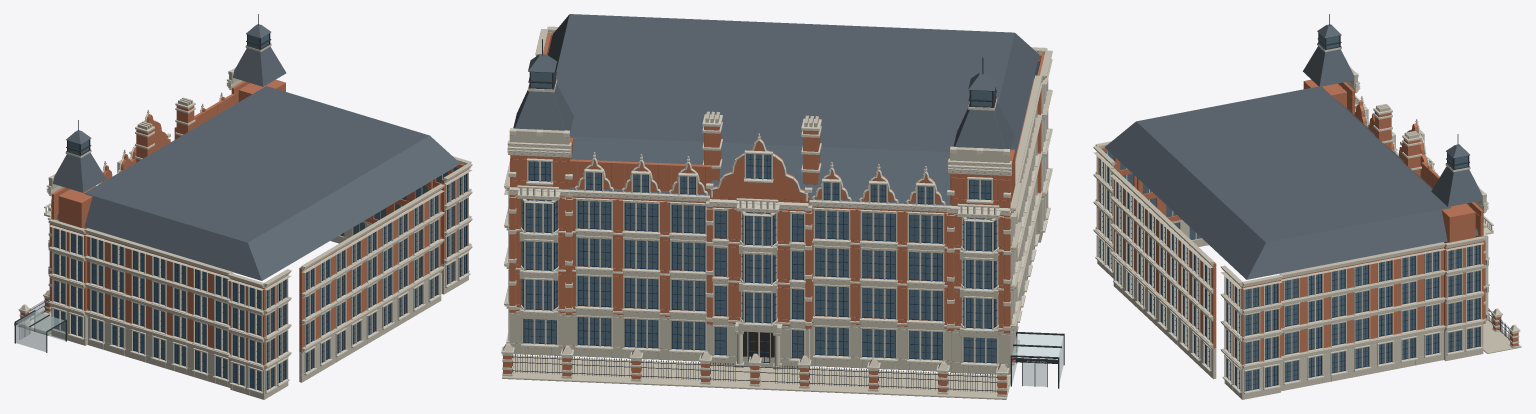
The model's file is sal-exterior-62f56b7113c3.glb.
3 renders of one model, left to right at view 1: azimuth 30°, elevation 25°; view 2: azimuth 150°, elevation 25°; view 3: azimuth 270°, elevation 25°, orthographic. The views are drawn at different scales.
Parts seen in each view (by area): view 1: SAL.001; view 2: SAL.001; view 3: SAL.001.
Boxes of the visible parts, bbox=[...] form: SAL.001: bbox=[14, 14, 472, 399]; SAL.001: bbox=[501, 14, 1064, 399]; SAL.001: bbox=[1093, 14, 1521, 399].
Bounding box in the file's own units: 68.11 × 33.89 × 61.15.
